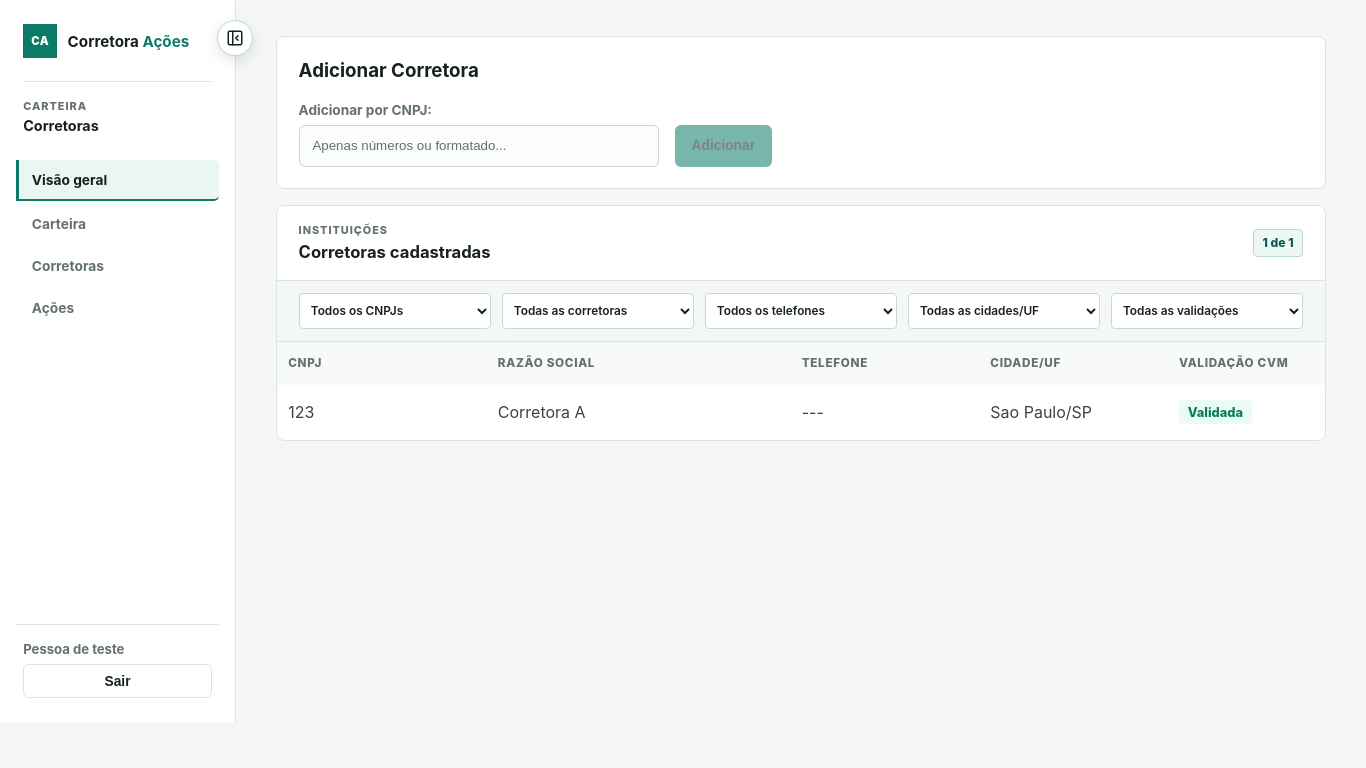
Test case: corretoras › mostra as corretoras e aplica filtros
Expected: the cell "Corretora A" is shown, [487,385,790,439]
Select "Não CVM" in the dropdown named "Filtrar validação CVM" at (1207, 310), box [1111,292,1303,328]
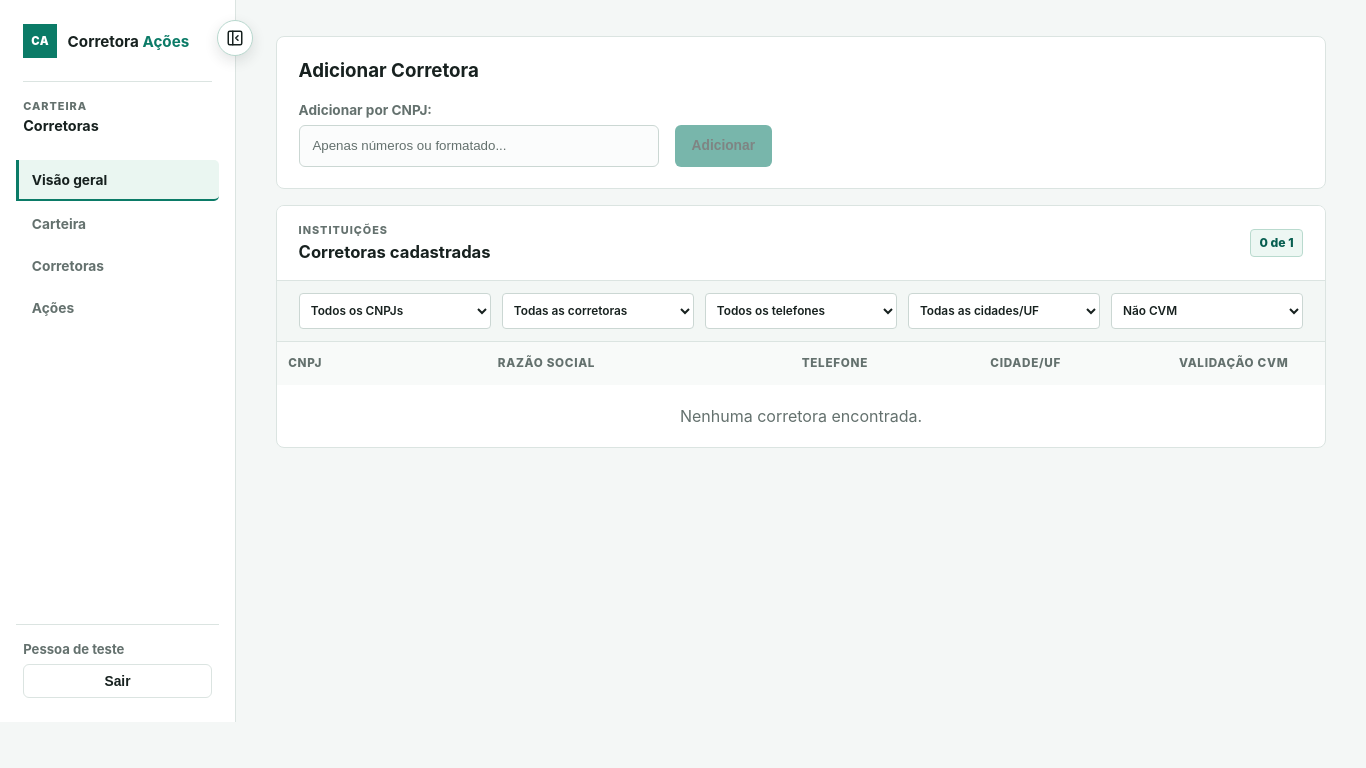
Result: the text "Nenhuma corretora encontrada." is shown at [277,385,1325,446]
